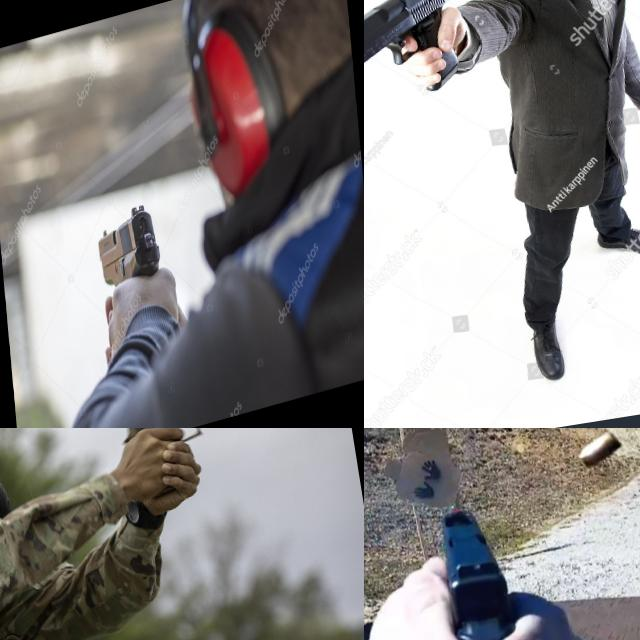handgun: (429, 497, 523, 640), (364, 0, 469, 115), (109, 428, 259, 507), (94, 197, 165, 311)
